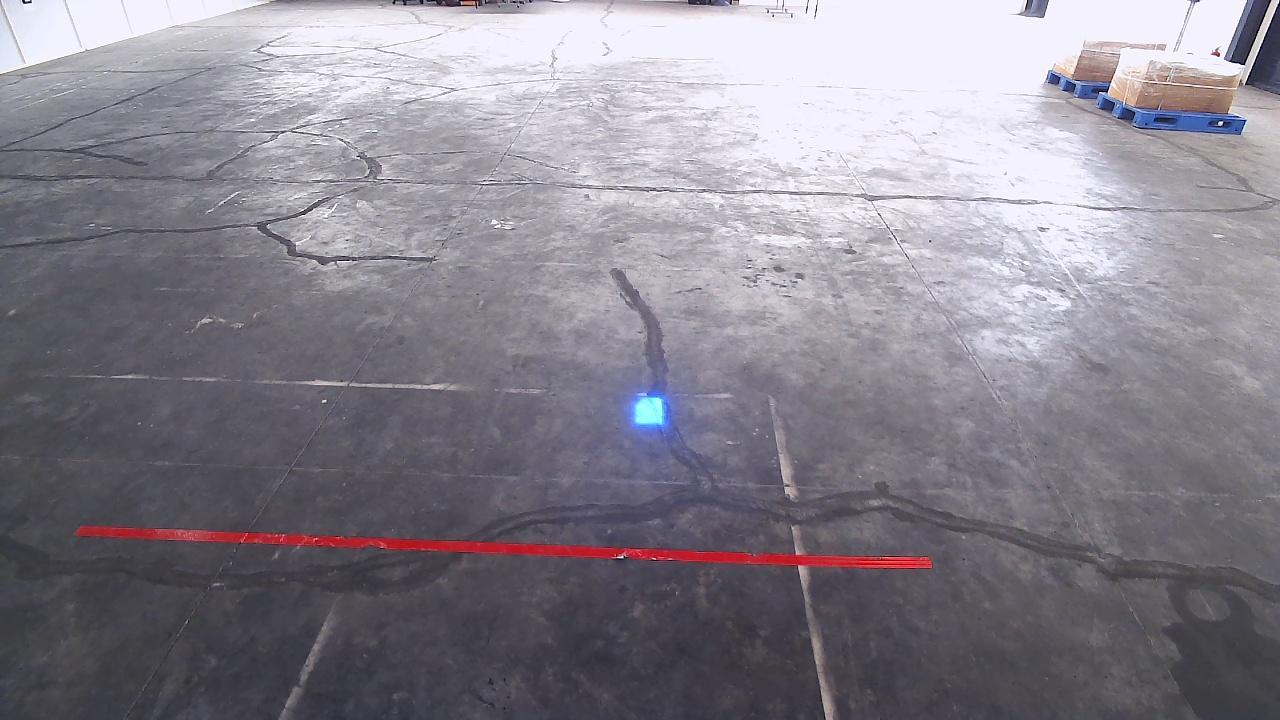red_line: (74, 524, 937, 566)
